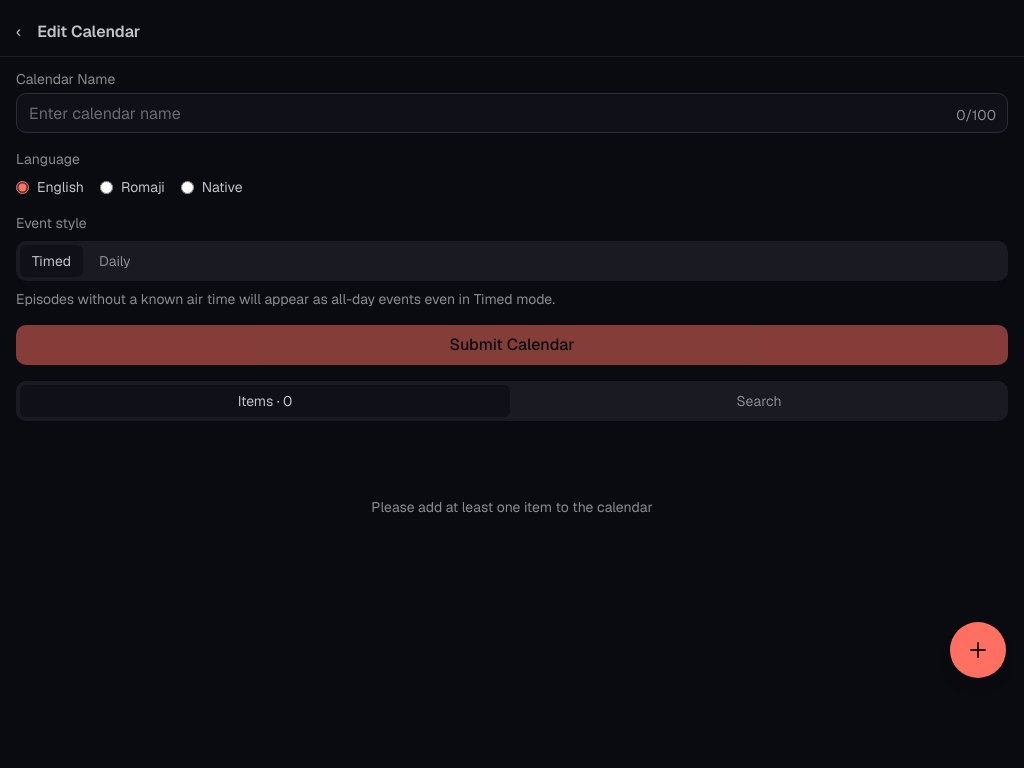
Test: CalendarEditorViewMobile › renders search input when on Search tab
Step 1. Click the tab "Search" → {"x": 759, "y": 401}, box [514,385,1004,417]
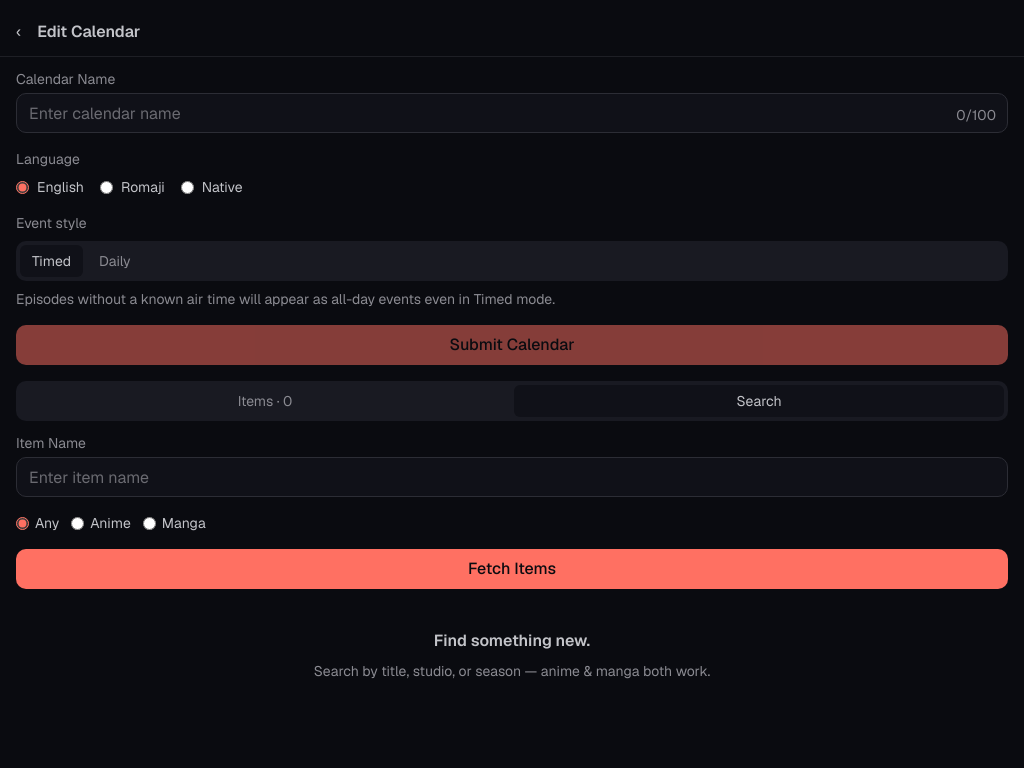
Check: the element with test id "search-input-mobile" is shown, box [16,433,1008,497]
